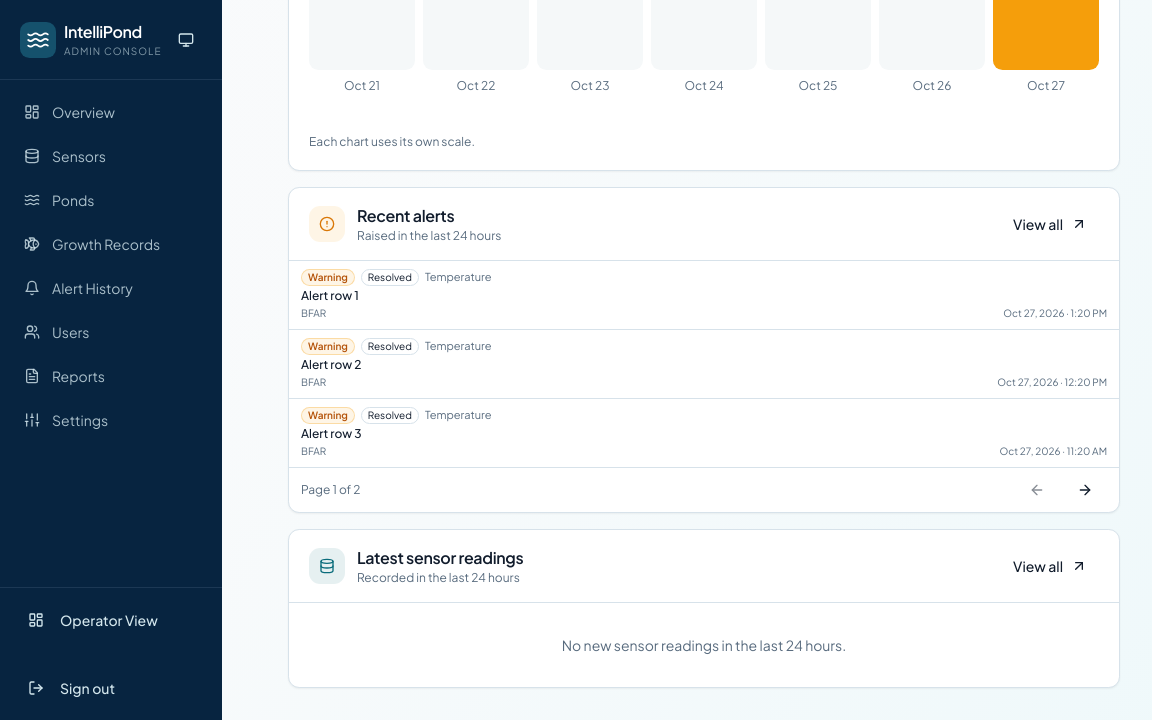
AdminOverview recent activity › pages three alert rows at a time
(page scrolled)
Check: the text "Alert row 1" is shown, box [301, 288, 359, 303]
Check: the text "Alert row 3" is shown, box [301, 426, 362, 441]
Click the button named "Next alert page" at (1085,490), box [1063, 468, 1107, 512]
(page scrolled)
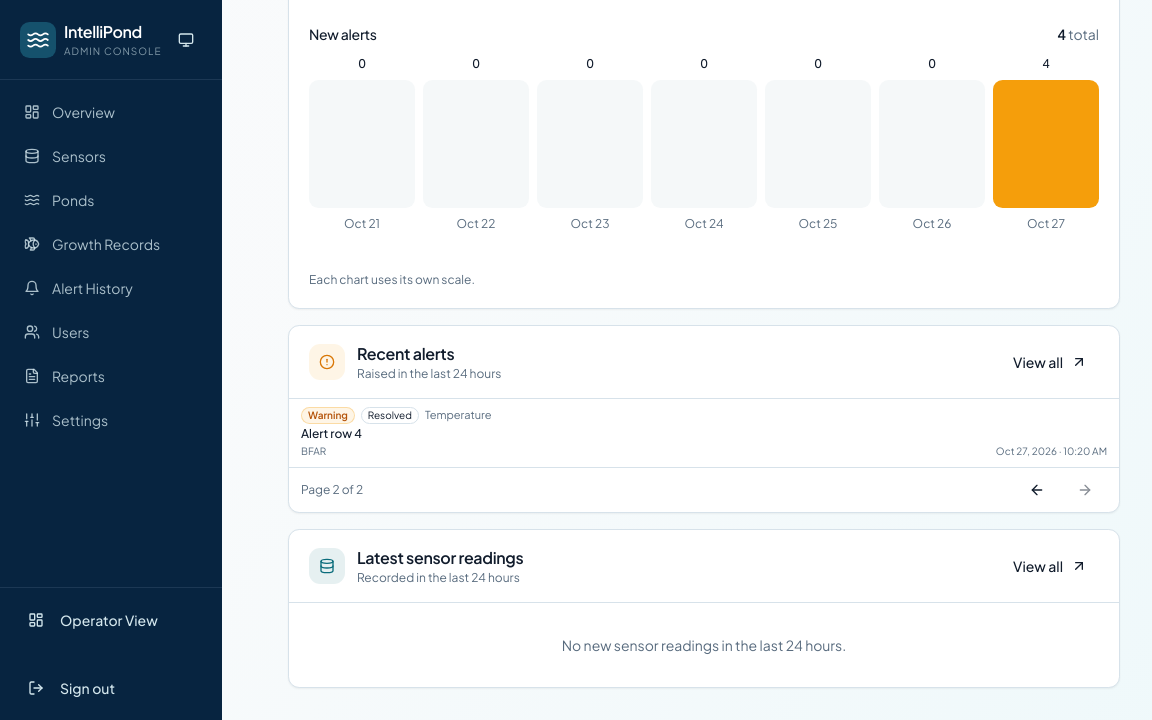
Check: the text "Alert row 4" is shown, box [301, 426, 362, 441]
Check: the text "Alert row 1" is gone
